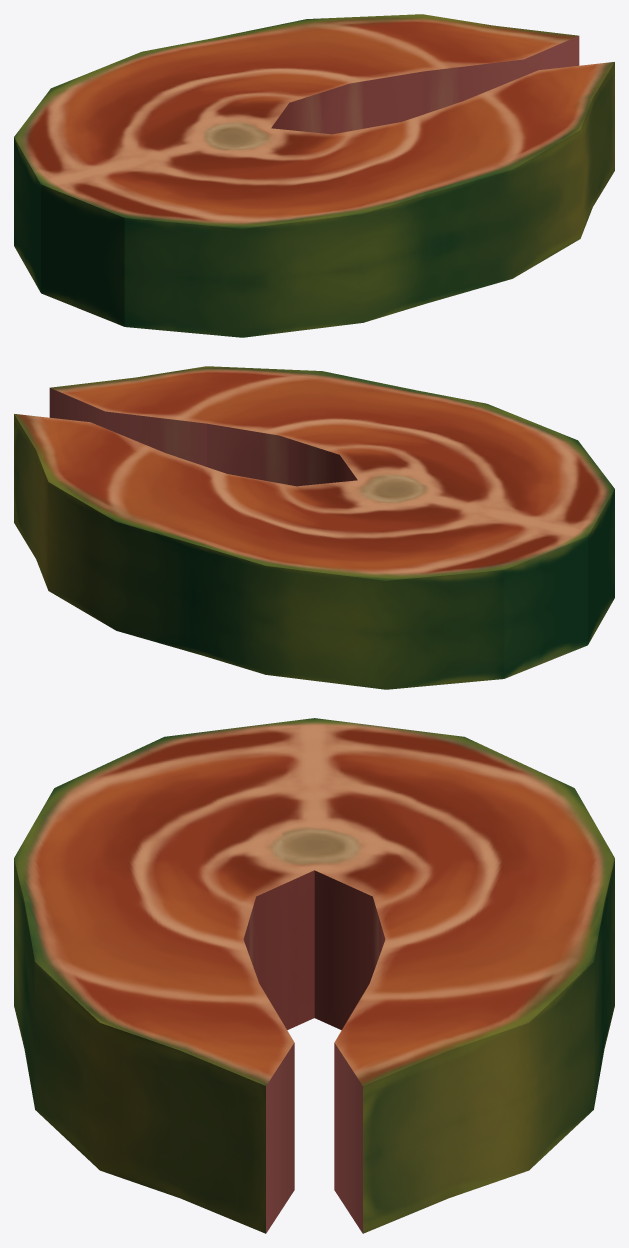
File: Fish_slice.fbx
The picture shows the model from 3 angles, top to bottom: view 1: azimuth 30°, elevation 25°; view 2: azimuth 150°, elevation 25°; view 3: azimuth 270°, elevation 25°; orthographic projection. The views are drawn at different scales.
Parts seen in each view (by area): view 1: pCylinder174; view 2: pCylinder174; view 3: pCylinder174.
Boxes of the visible parts, x1,y1,x2,y2 form: pCylinder174: (14, 14, 614, 337); pCylinder174: (14, 366, 614, 689); pCylinder174: (14, 718, 614, 1233).
Bounding box in the file's own units: 0.474 × 0.0887 × 0.3271.
